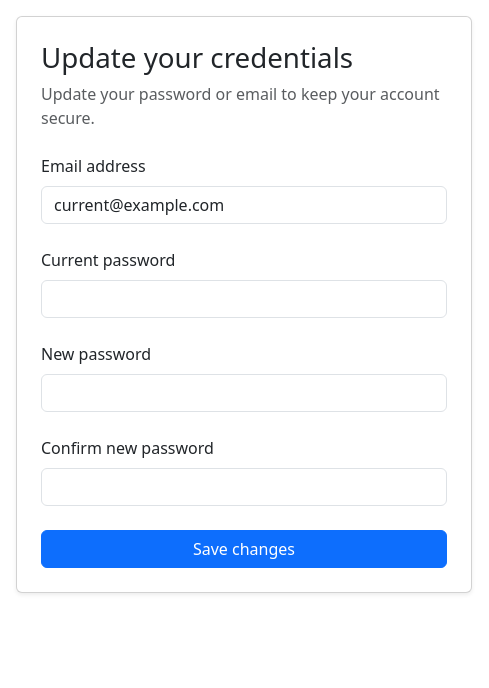
Test: ChangePasswordFlow › requires current password when submitting a password change
In the password field labelled "New password": point(244, 393) [41,374,447,412], type "new-pass"
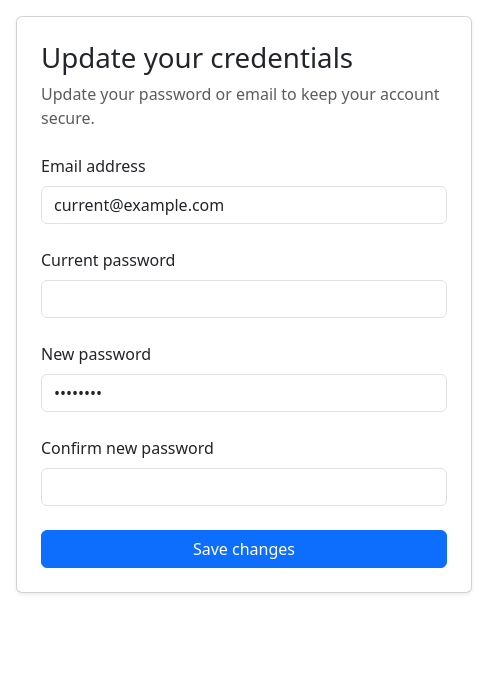
In the password field labelled "Confirm new password": point(244, 487) [41,468,447,506], type "new-pass"
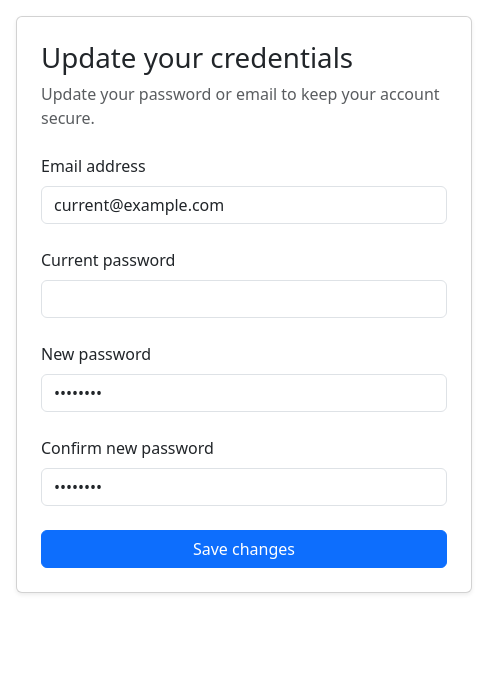
Click the button "Save changes": point(244, 549) [41,530,447,568]
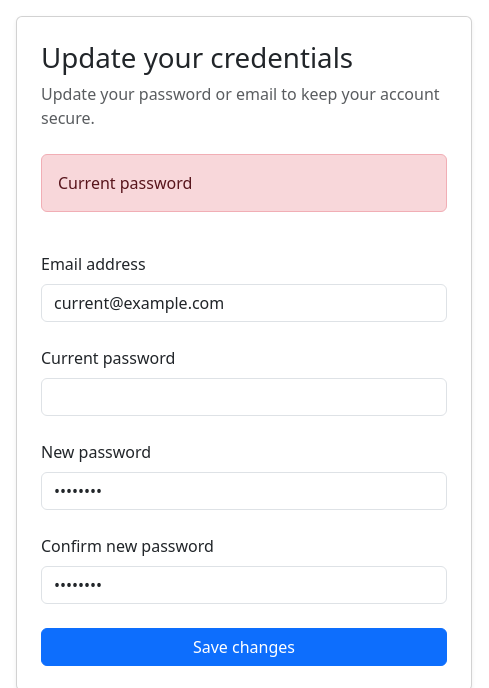
Check: the message reads "Current password", box [58,172,192,194]
